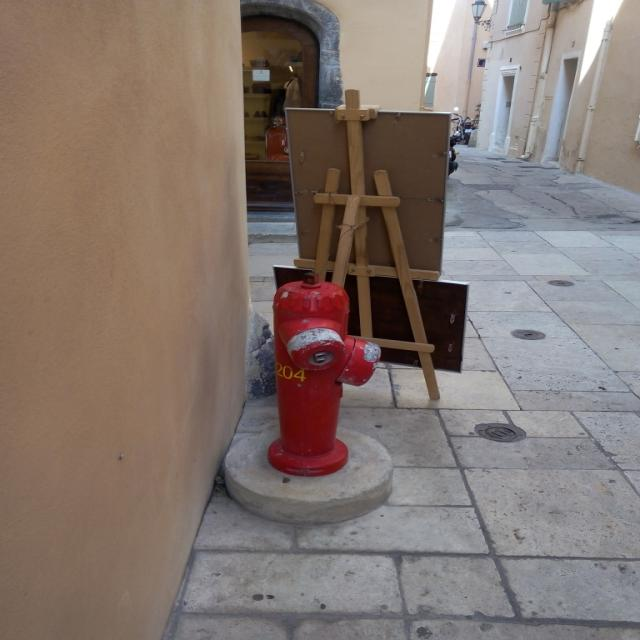fire_hydrant: (270, 272, 378, 476)
